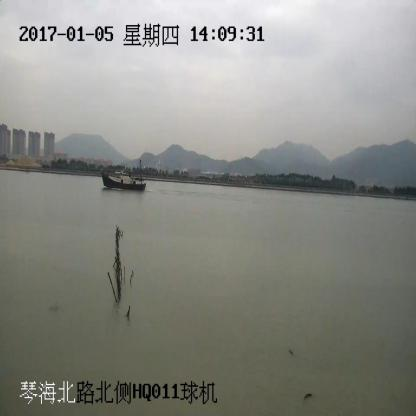Fishing Boat: (101, 159, 146, 192)
